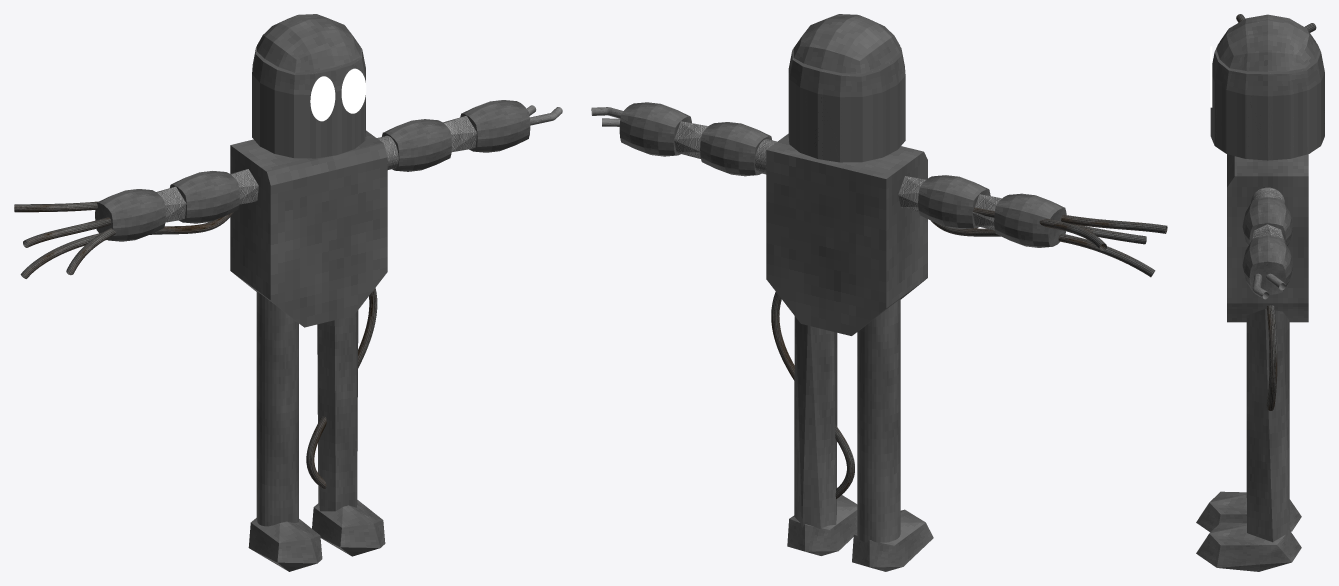
Rendered from tbr_Player.glb.
The picture shows the model from 3 angles, left to right: view 1: azimuth 30°, elevation 25°; view 2: azimuth 150°, elevation 25°; view 3: azimuth 270°, elevation 25°; orthographic projection. The views are drawn at different scales.
Visible parts, largest first — view 1: Body, Head, Leg02, Leg01, Arm04, Foot02, Foot01, Arm03, Arm01, Arm02, Wire01, Wires05 (+6 smaller); view 2: Body, Head, Leg02, Leg01, Arm04, Arm01, Arm03, Arm02, Foot02, Foot01, Wires05, Wire01 (+3 smaller); view 3: Head, Leg01, Body, Foot01, Arm03, Foot02, Arm02, Wires05, Hands, Robotnic04, Robotnic02.
Part boxes in pixels (x1,y1,x2,y2): Body: [230, 130, 387, 327]; Head: [252, 14, 365, 158]; Leg02: [256, 291, 298, 526]; Leg01: [317, 310, 358, 511]; Arm04: [95, 189, 165, 241]; Foot02: [248, 518, 322, 571]; Foot01: [312, 500, 385, 556]; Arm03: [460, 100, 530, 152]; Arm01: [170, 171, 239, 223]; Arm02: [382, 119, 451, 171]; Wire01: [20, 212, 233, 278]; Wires05: [306, 288, 377, 488]; Body: [766, 133, 927, 335]; Head: [788, 14, 905, 162]; Leg02: [857, 299, 900, 542]; Leg01: [794, 316, 837, 529]; Arm04: [994, 193, 1066, 247]; Arm01: [918, 175, 990, 229]; Arm03: [619, 102, 691, 156]; Arm02: [700, 122, 771, 176]; Foot02: [852, 509, 933, 571]; Foot01: [787, 495, 857, 555]; Wires05: [771, 292, 854, 498]; Wire01: [931, 221, 1155, 277]; Head: [1210, 14, 1324, 160]; Leg01: [1246, 309, 1289, 542]; Body: [1227, 154, 1308, 322]; Foot01: [1196, 522, 1301, 571]; Arm03: [1242, 236, 1292, 294]; Foot02: [1196, 491, 1301, 532]; Arm02: [1242, 197, 1292, 245]; Wires05: [1266, 305, 1277, 410]; Hands: [1252, 273, 1285, 299]; Robotnic04: [1252, 224, 1285, 242]; Robotnic02: [1250, 187, 1284, 203].
Size of the model in its own units: 9.39 by 8.61 by 1.9.
Materials: 4 (3 with a texture image).
